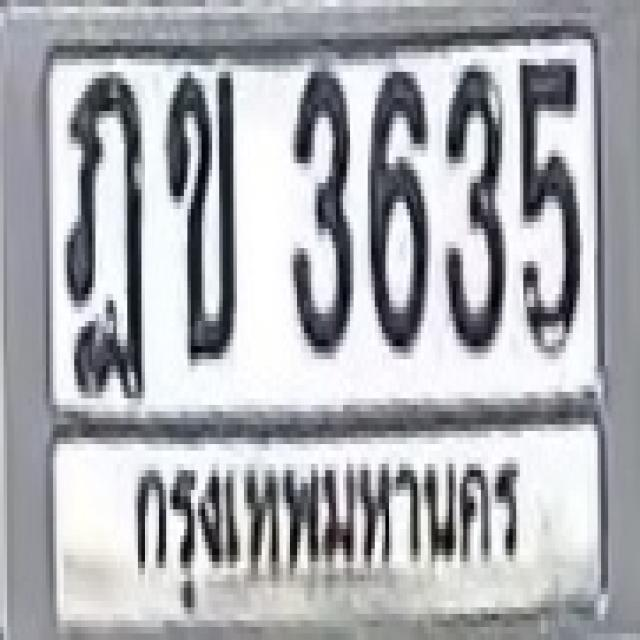3: (286, 62, 350, 343), (442, 59, 502, 346)
5: (516, 52, 576, 346)
6: (368, 65, 424, 346)
A02: (163, 65, 233, 353)
A14: (62, 65, 143, 392)
BKK: (127, 435, 531, 613)
